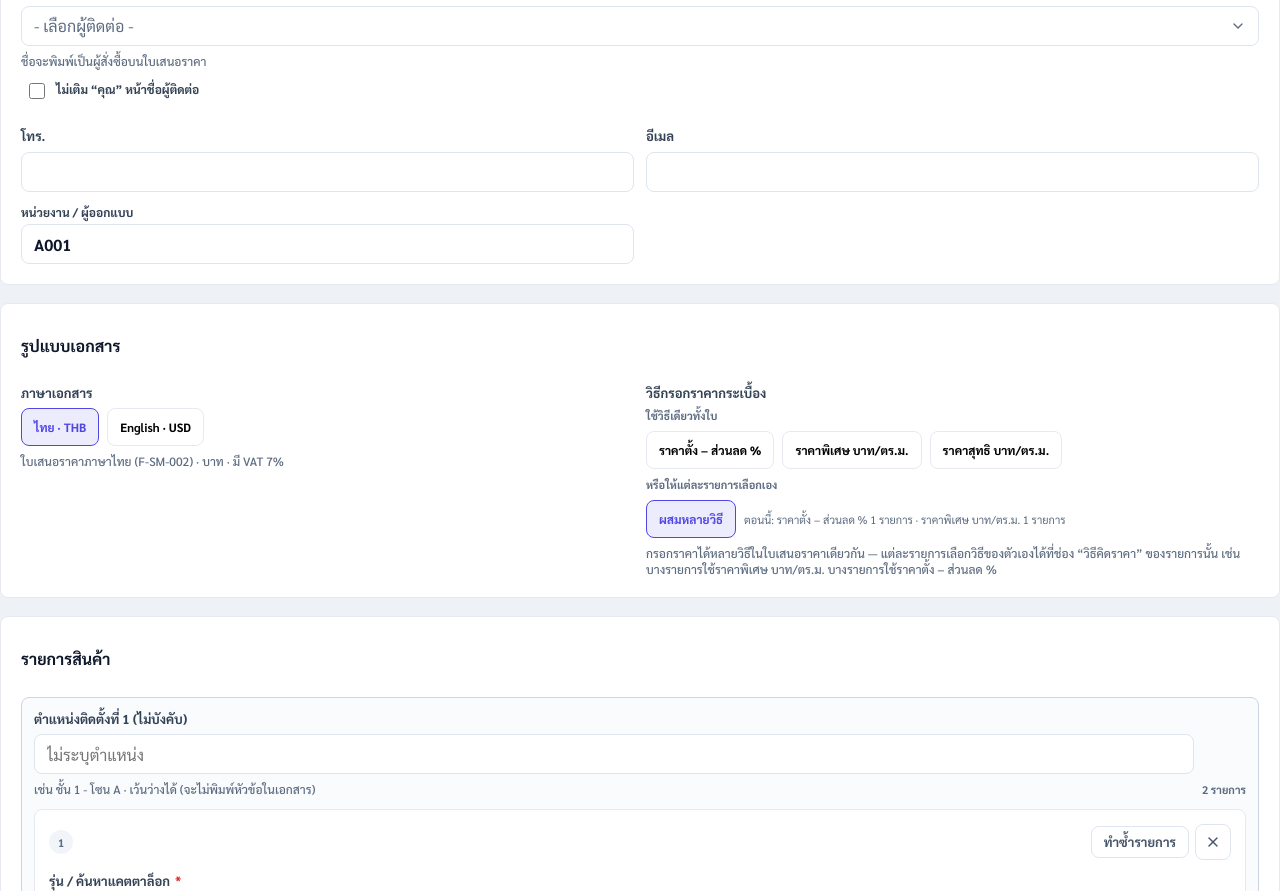
Test: back to one mode for the whole document › asks first when it would re-price rows that use another mode — and cancelling changes nothing
(page scrolled)
Expected: the element named "วิธีกรอกราคากระเบื้อง" is shown, 646,408 -> 1066,538
Step 1. Click the button "ราคาตั้ง − ส่วนลด %" → (710, 450), box 646,431 -> 774,469
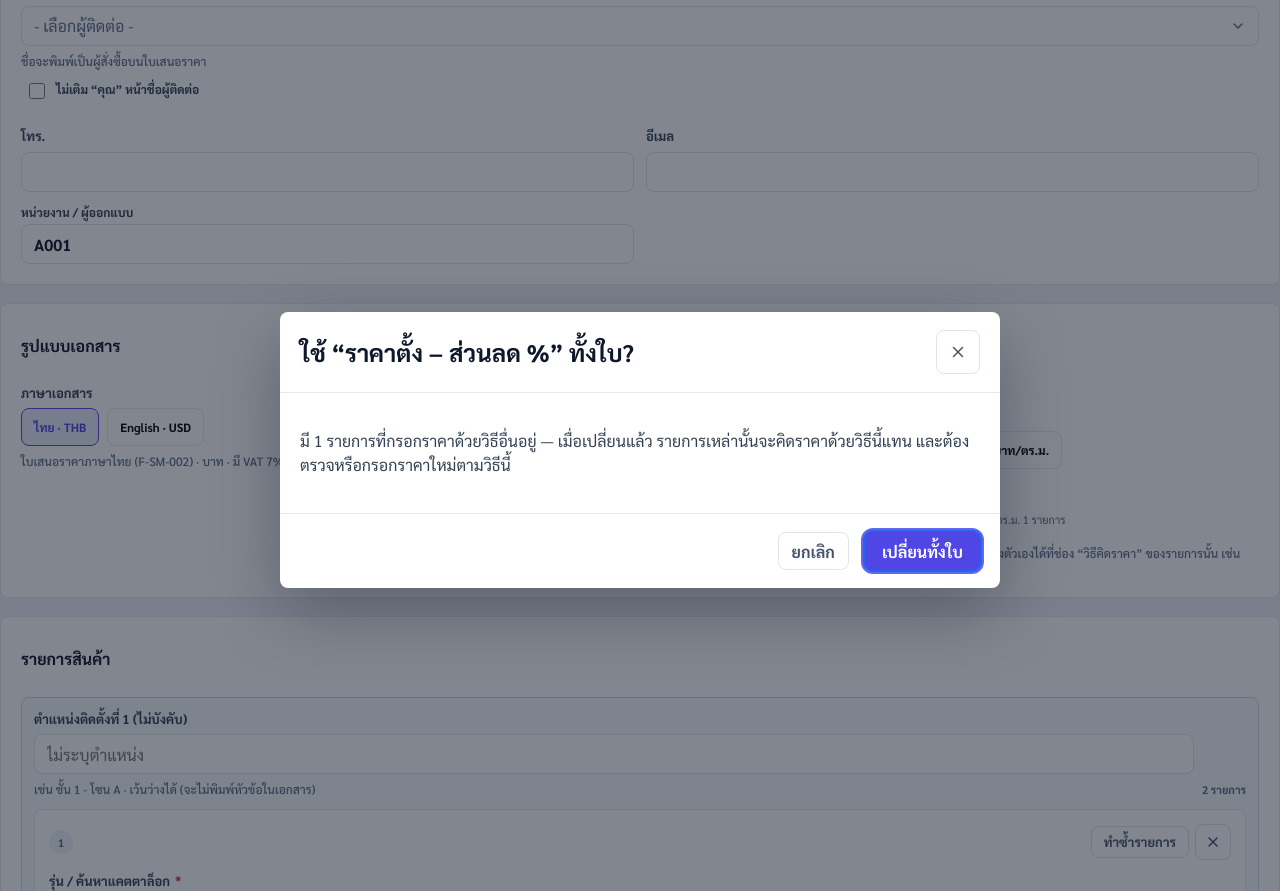
Now the heading "ใช้ “ราคาตั้ง − ส่วนลด %” ทั้งใบ?" is shown, box 300,336 -> 634,368
Now the text "มี 1 รายการที่กรอกราคาด้วยวิธีอื่นอยู่" is shown, box 300,430 -> 969,475
Step 2. Click the button "ยกเลิก" → (813, 551), box 778,532 -> 849,570
(page scrolled)
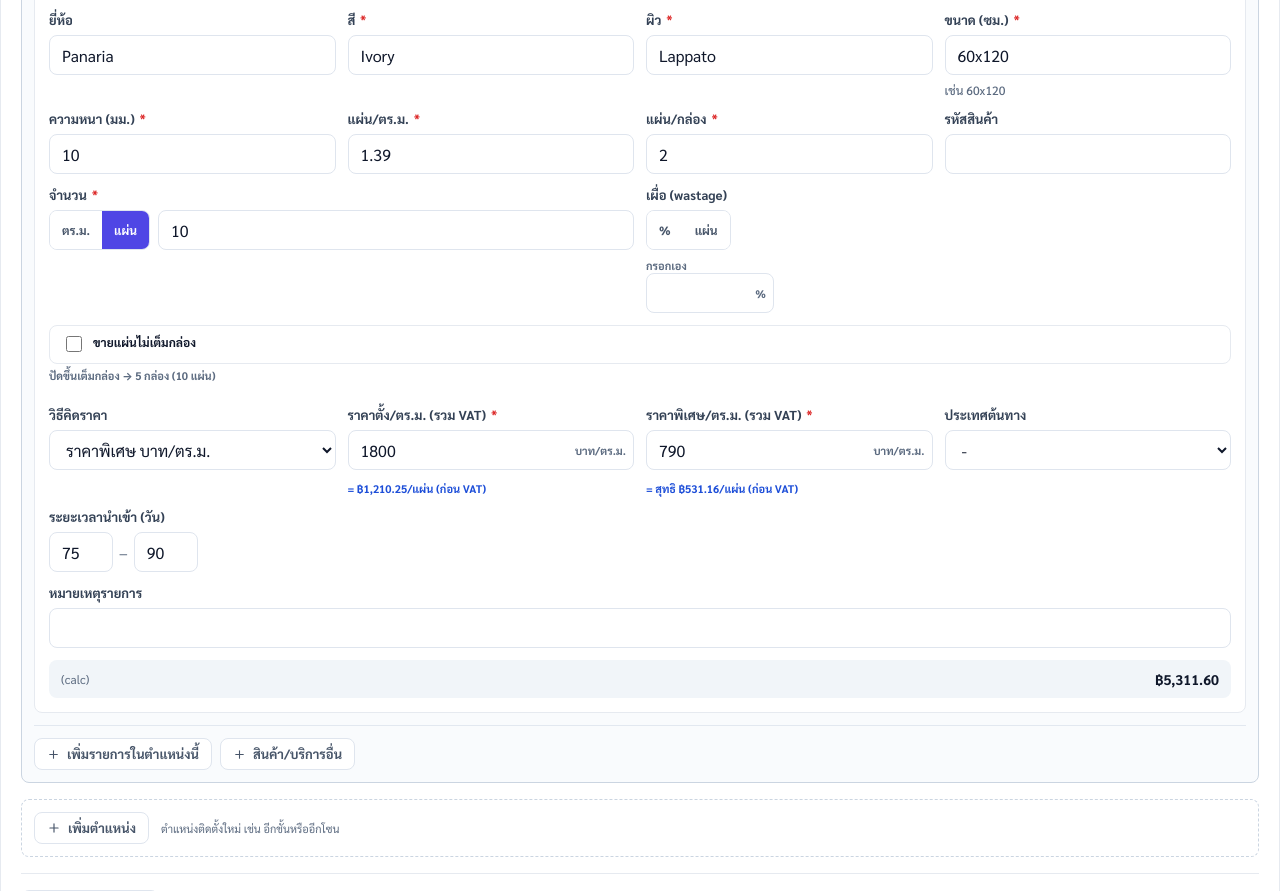
Expected: the number field with id "special-1" holds "790", 646,430 -> 932,470
Now the heading "ใช้ “ราคาตั้ง − ส่วนลด %” ทั้งใบ?" is gone
